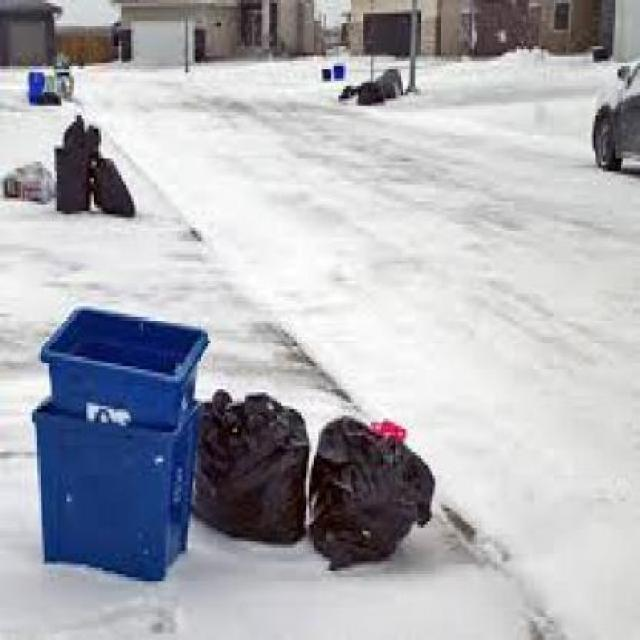garbage: (180, 369, 447, 574), (3, 106, 144, 222), (334, 52, 413, 114), (16, 53, 90, 112)
